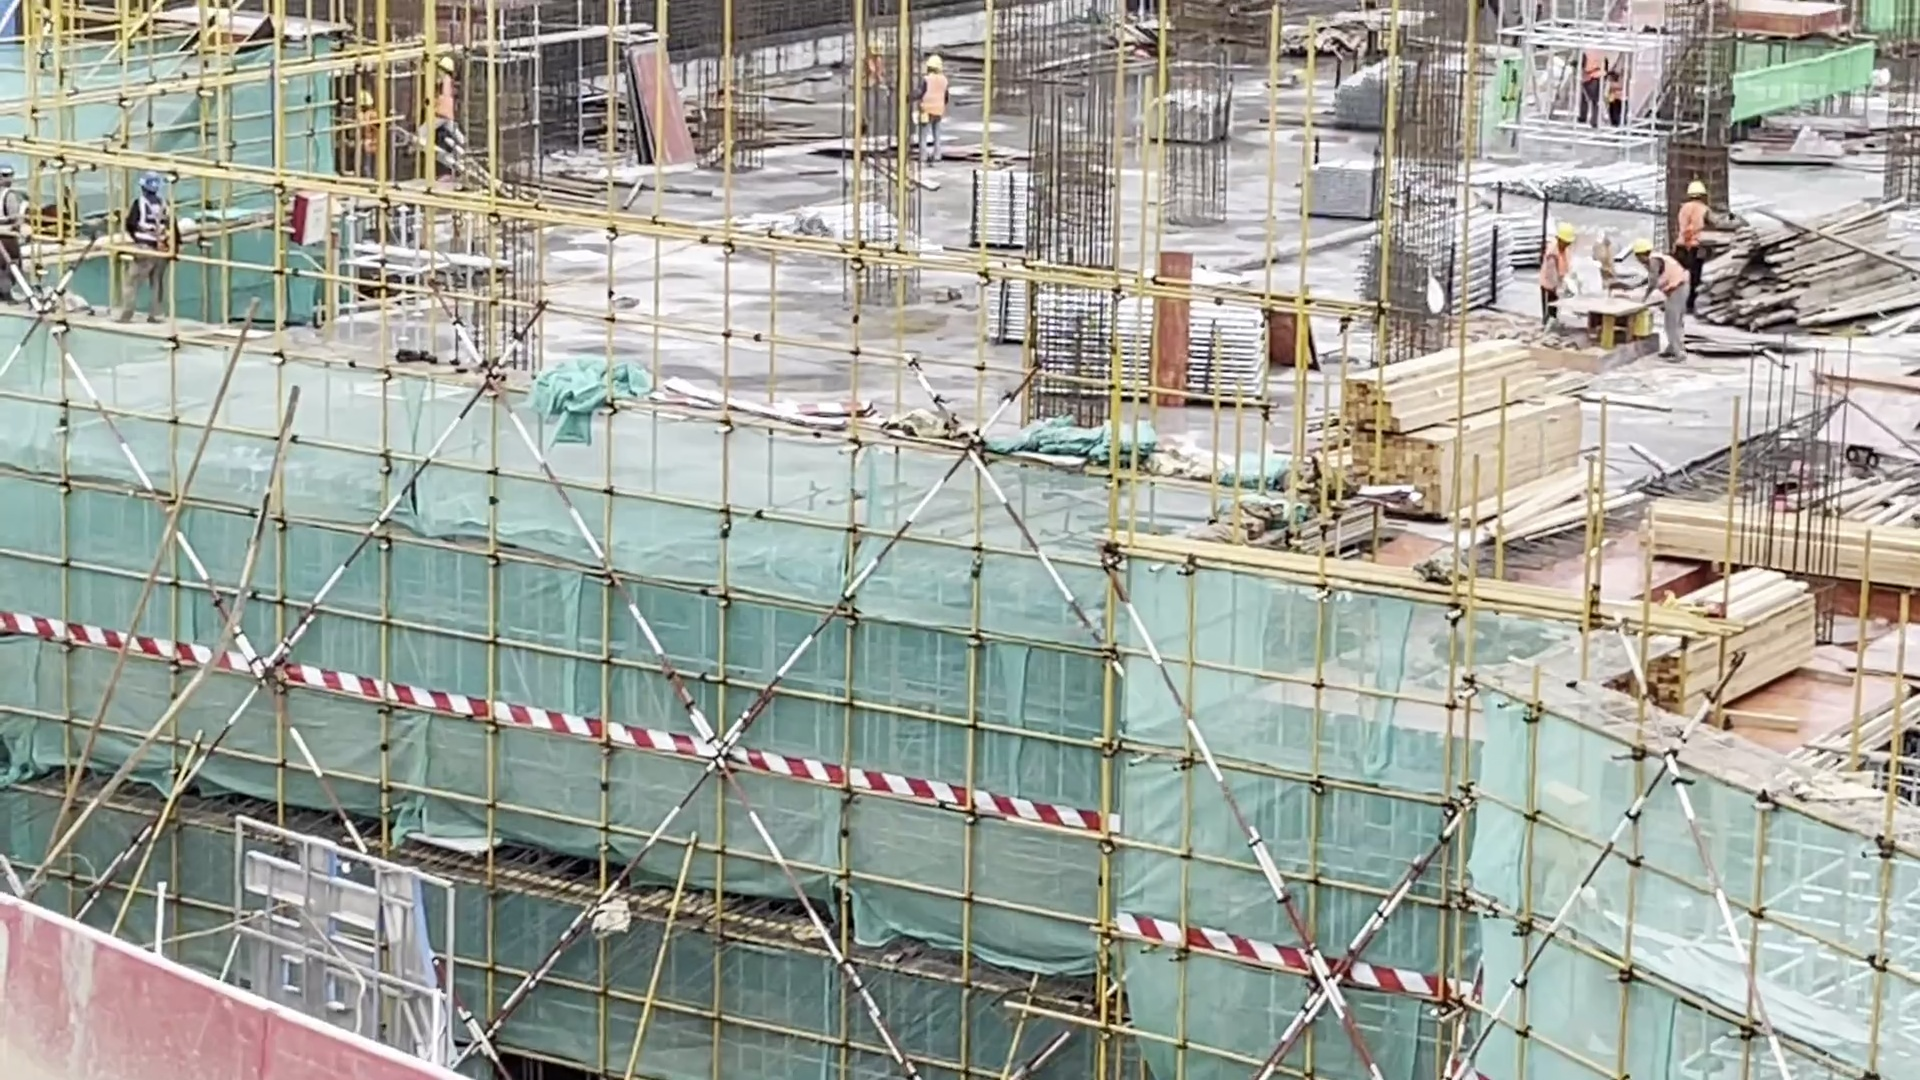helmet: (1683, 176, 1713, 204), (1554, 221, 1574, 246), (1631, 234, 1653, 254), (924, 53, 945, 70)
person: (110, 169, 183, 315), (1625, 236, 1694, 357), (915, 47, 951, 156), (438, 45, 465, 173), (1675, 178, 1715, 263), (1566, 49, 1609, 119), (1541, 223, 1571, 317)
scaffold: (981, 268, 1275, 399), (963, 159, 1137, 250), (1365, 217, 1515, 313), (1493, 154, 1672, 215), (1332, 58, 1395, 134), (1302, 160, 1378, 215)
vest: (123, 201, 177, 245), (920, 72, 948, 117), (1545, 246, 1569, 293), (1648, 259, 1679, 293), (432, 76, 458, 117), (1683, 203, 1707, 240), (1581, 57, 1604, 79)
wood: (1331, 341, 1582, 505), (1638, 496, 1920, 587), (1649, 563, 1813, 709)
